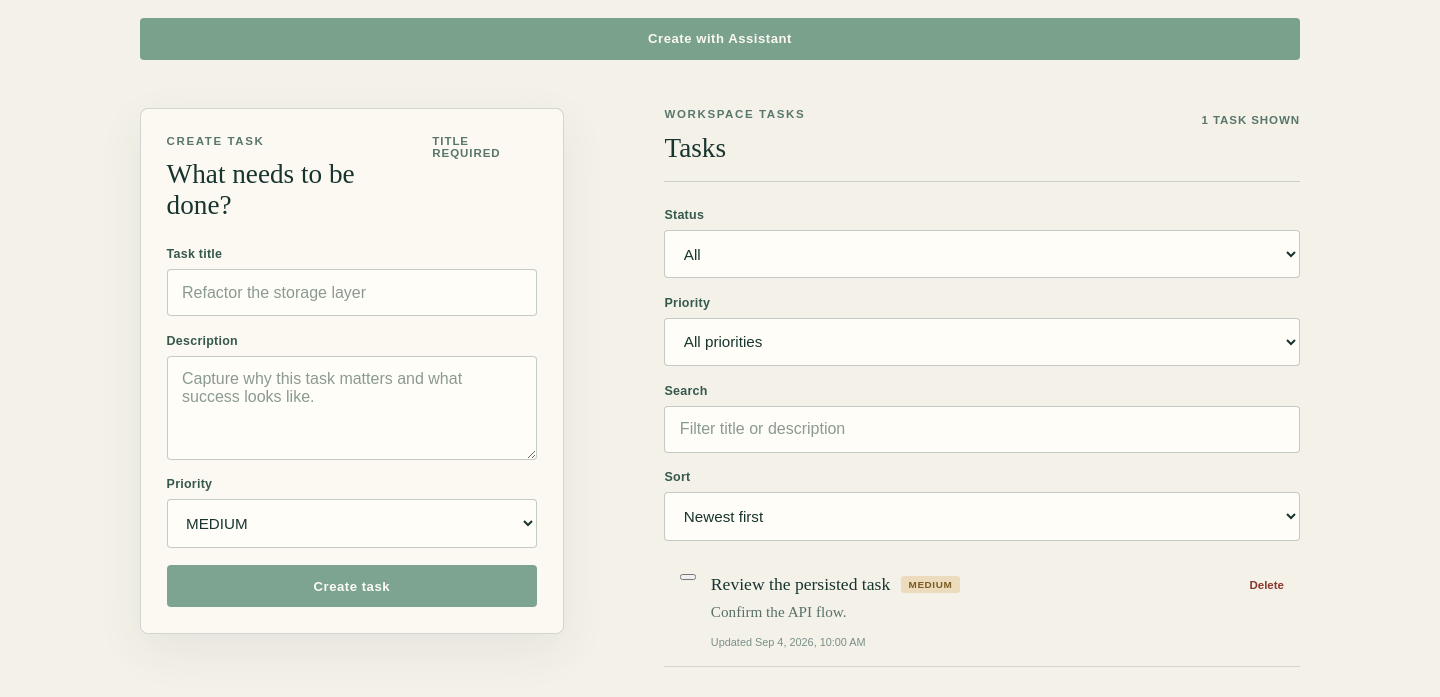
Scenario: task workspace › creates, completes, and deletes a task through the API
(page scrolled)
expect the heading "Review the persisted task" is shown: met, box [711,574,890,595]
Type "New task" into the field.
click(352, 293); type("New task")  # box [167,269,537,316]
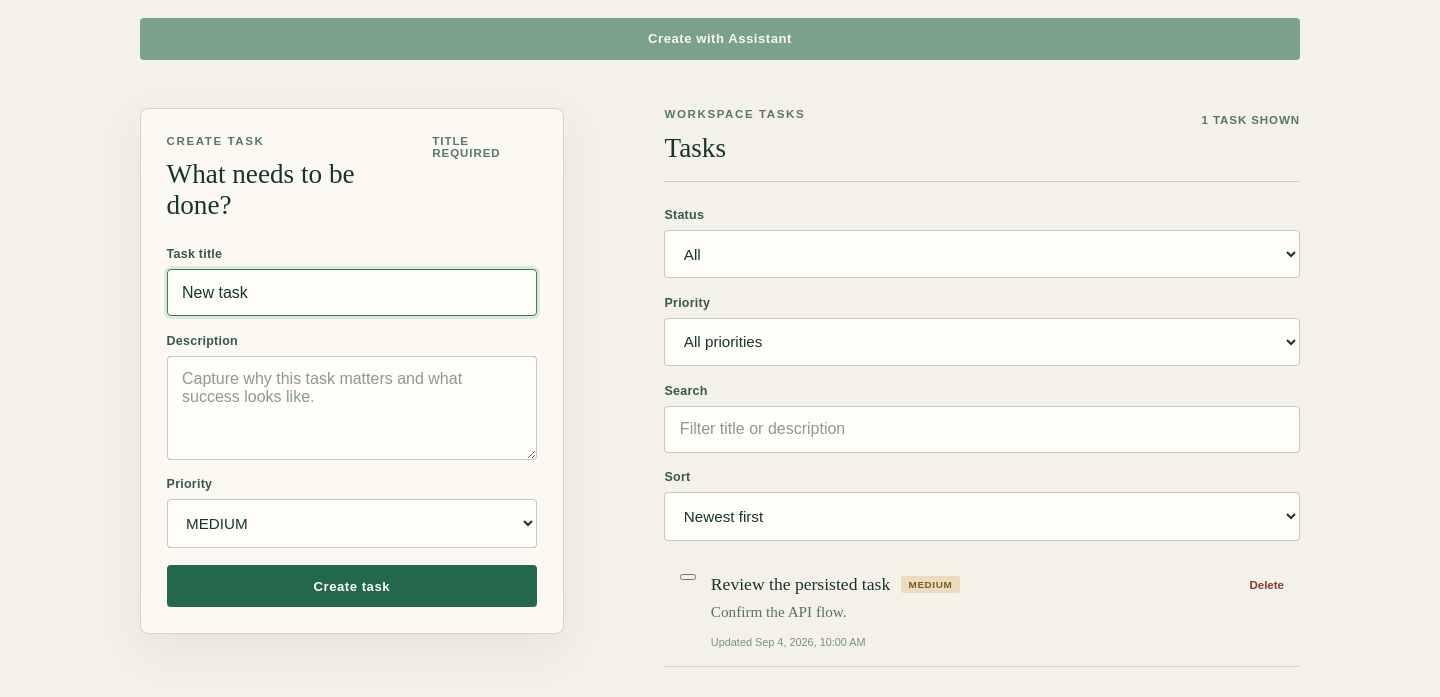
Select "HIGH" in the dropdown named "New task priority" at [352, 524], box [167,499,537,548]
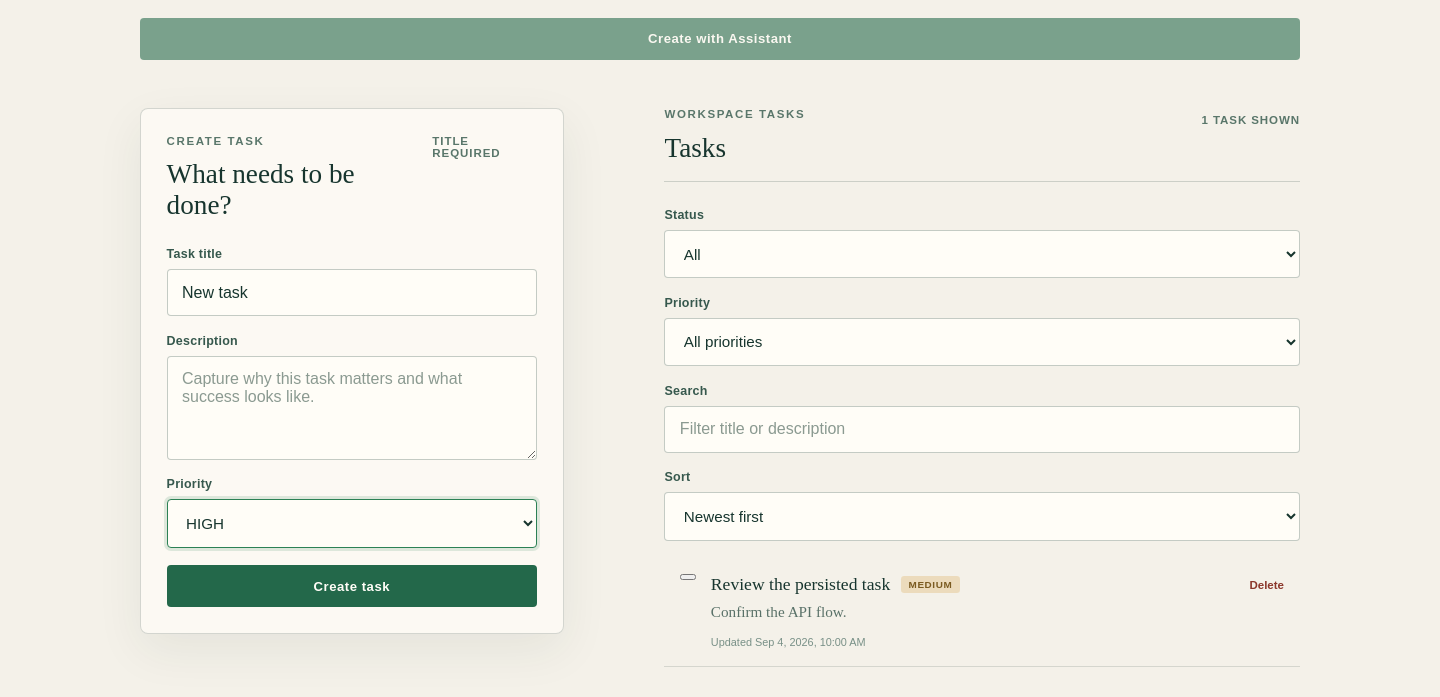
Click the button "Create task".
click(352, 586)  # box [167,565,537,607]
(page scrolled)
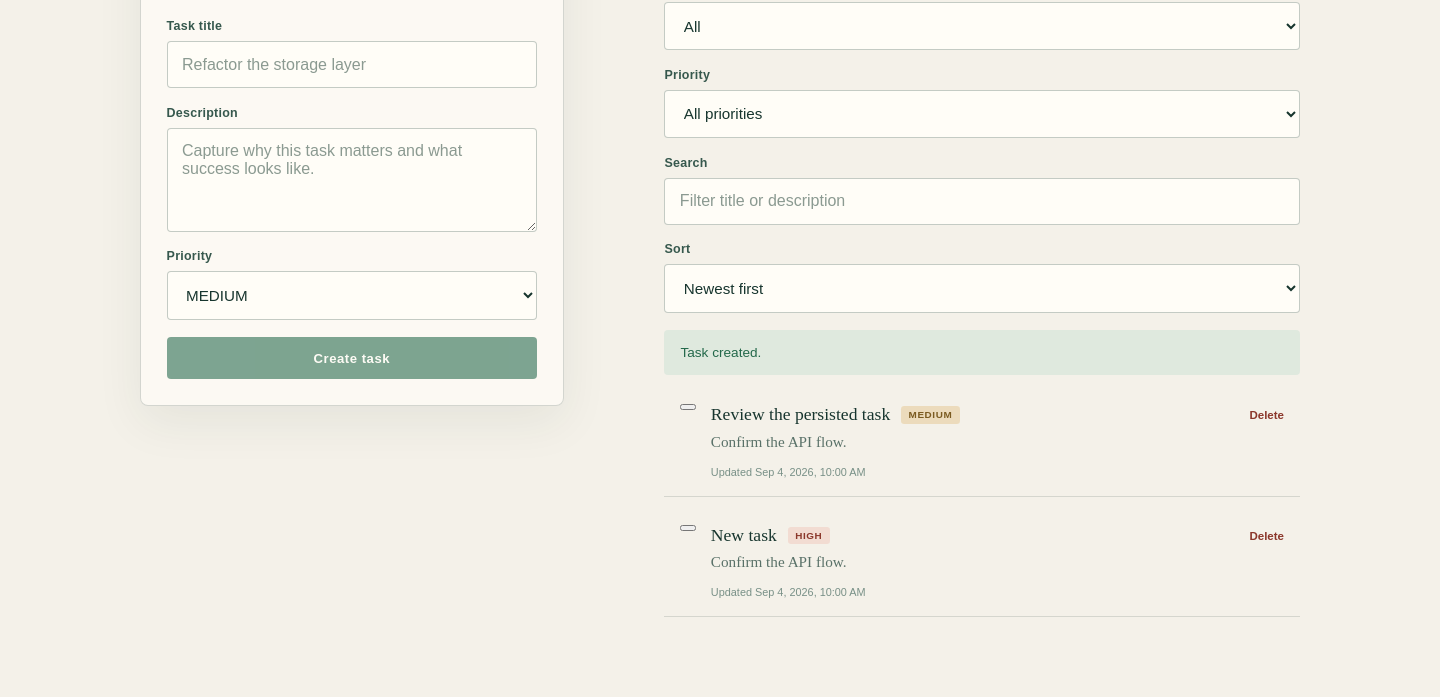
expect the text "Task created." is shown: met, box [664,330,1300,375]
Click the button named "Complete New task".
click(688, 528)  # box [680,525,696,531]
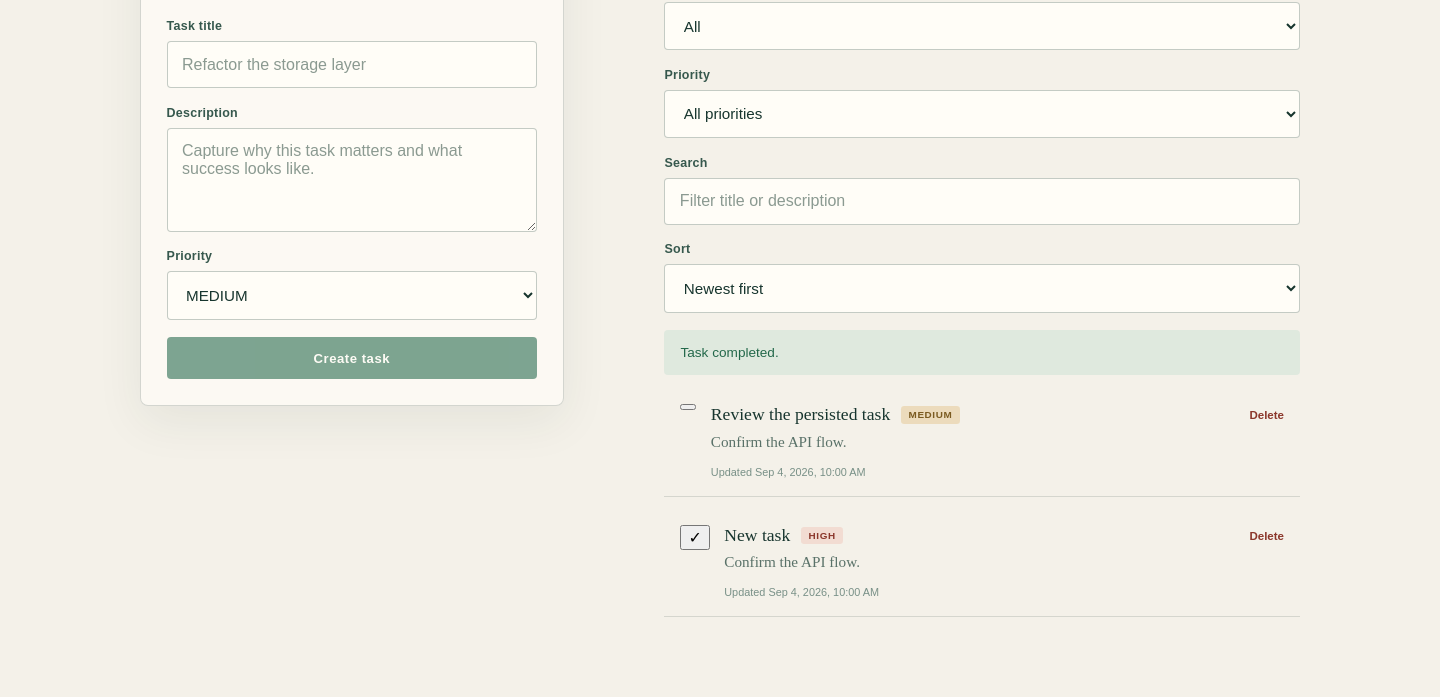
expect the text "Task completed." is shown: met, box [664,330,1300,375]
Click the button with aria-label "Delete New task".
click(1267, 536)  # box [1249,525,1284,546]
(page scrolled)
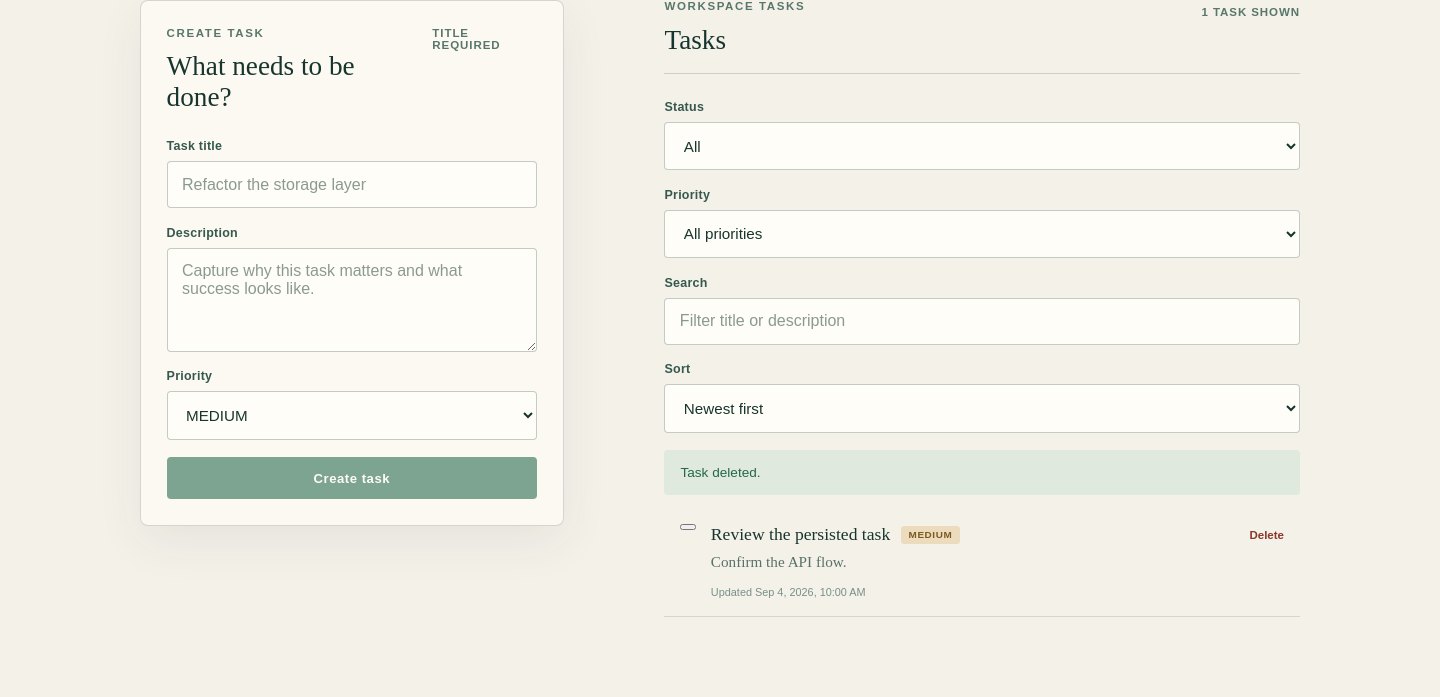
expect the text "Task deleted." is shown: met, box [664,450,1300,495]
